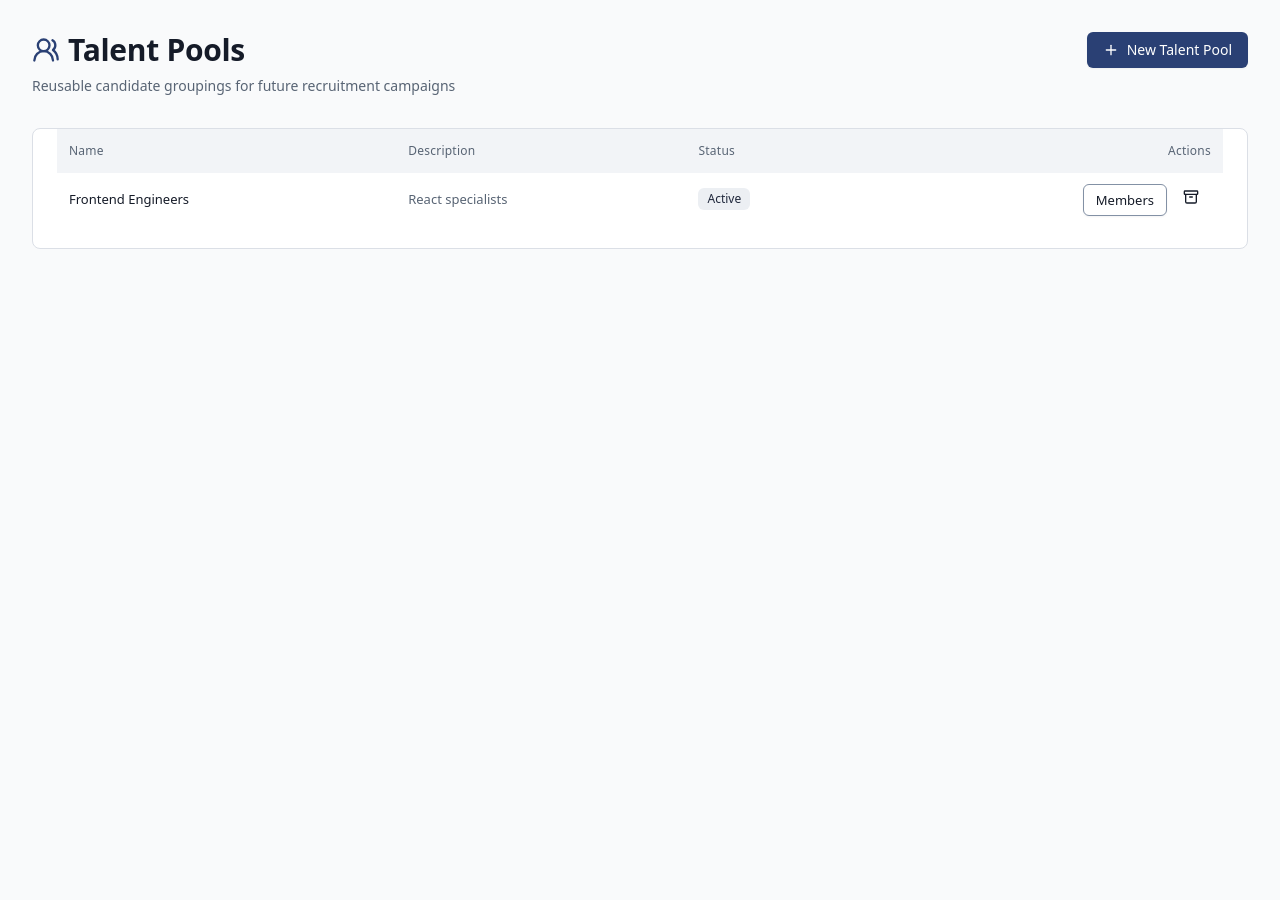
Test case: Talent Pools list page › confirmation dialogs › asks before archiving a pool, and Cancel archives nothing
Click the button with test id "button-archive-pool-1" at (1191, 197), box [1171,181,1211,213]
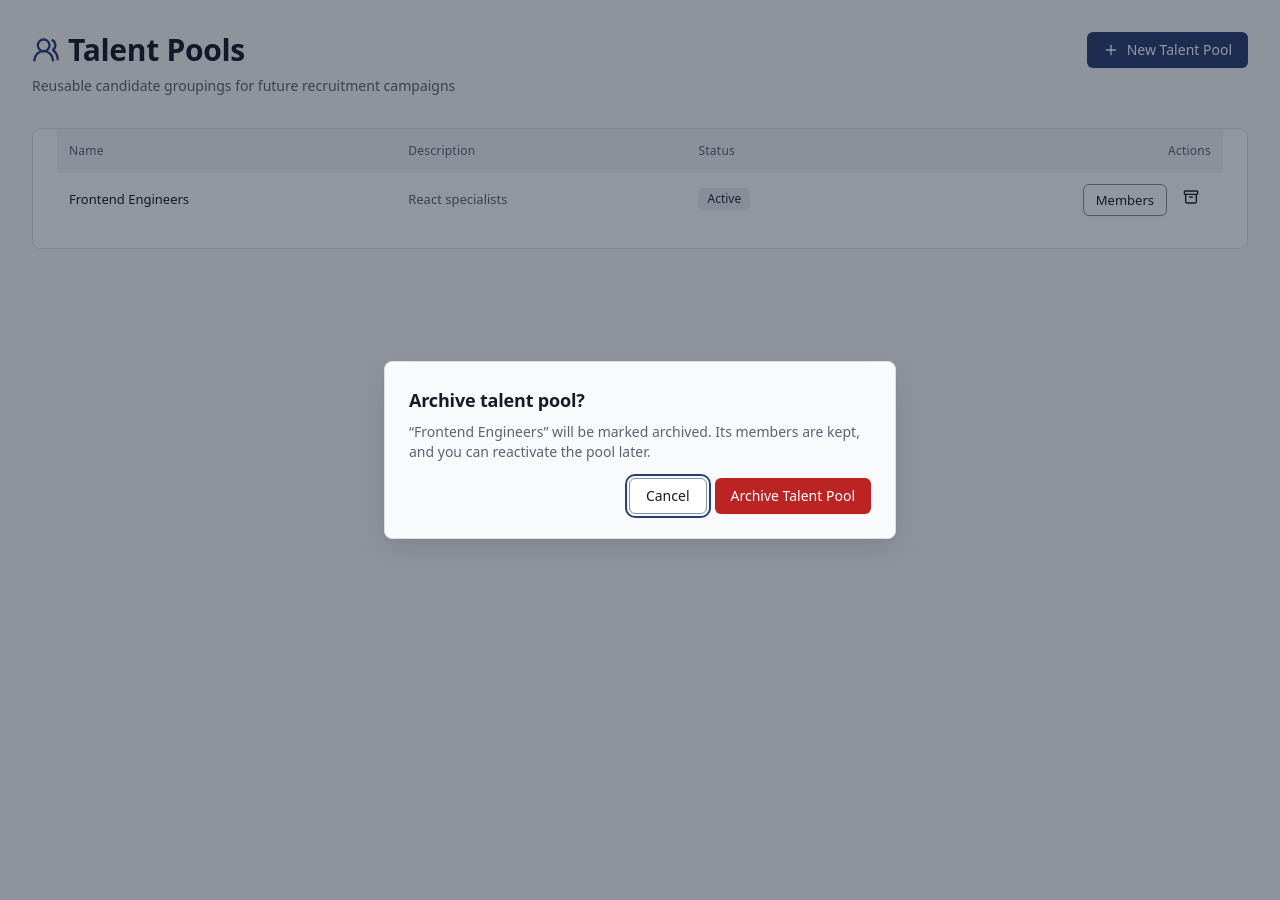
Check: the dialog with test id "dialog-archive-talent-pool" shows "Archive talent pool?", box [409,388,585,412]
Check: the dialog with test id "dialog-archive-talent-pool" shows "“Frontend Engineers” will be marked archived", box [384,361,896,539]
Click the button with test id "dialog-archive-talent-pool-cancel" at (668, 496), box [629,478,706,514]
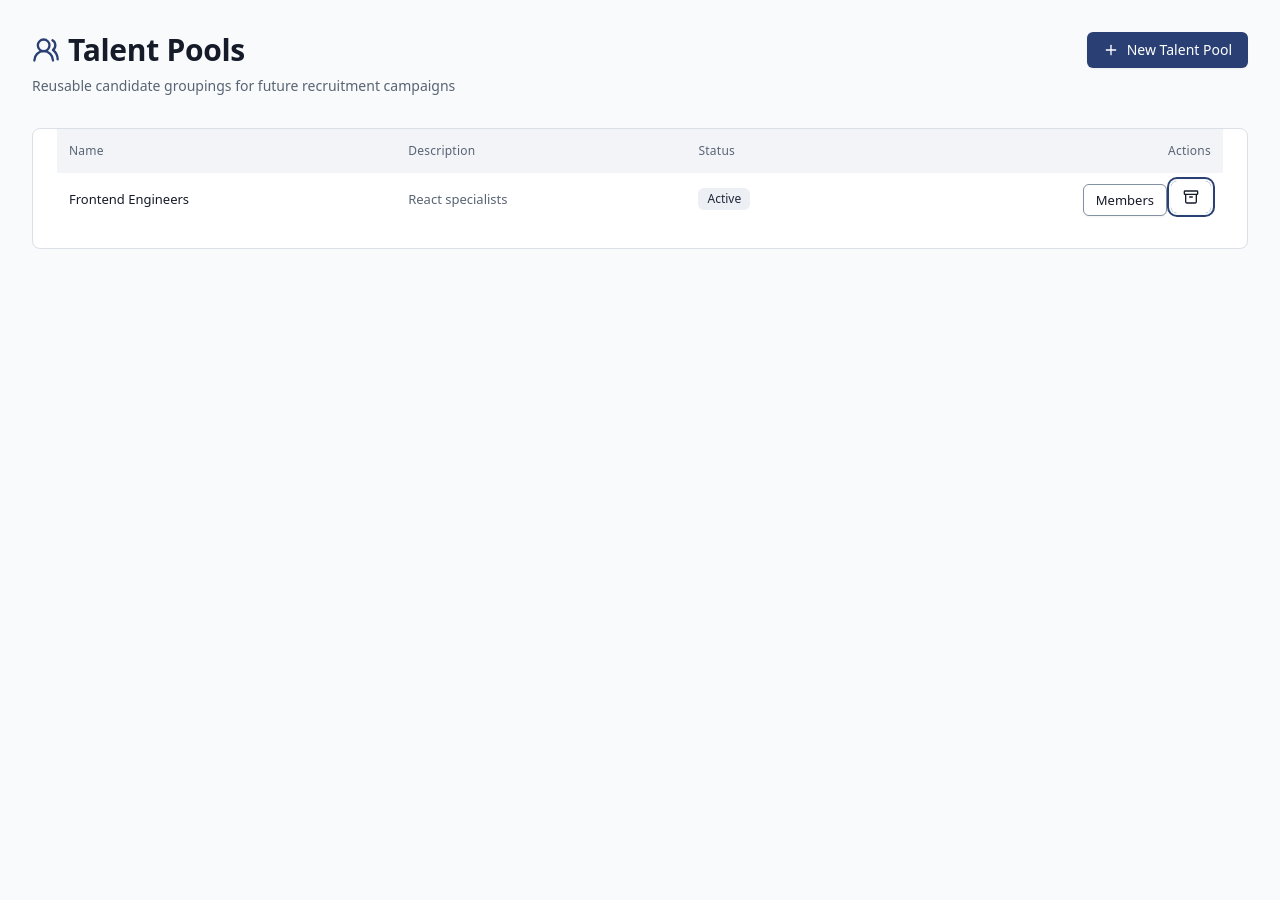
Check: the dialog with test id "dialog-archive-talent-pool" is gone
